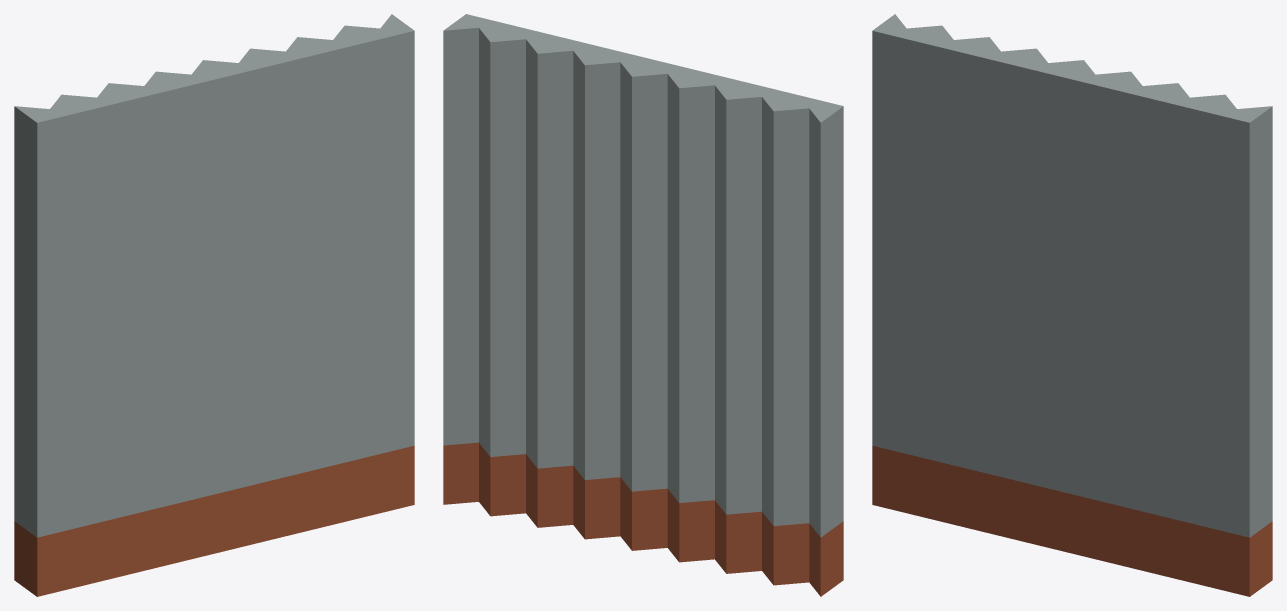
File: env_wall_corrugated.obj
3 views of the same model, side by side, from view 1: azimuth 30°, elevation 25°; view 2: azimuth 150°, elevation 25°; view 3: azimuth 330°, elevation 25° (orthographic).
Visible parts, largest first — view 1: WallCorrugated; view 2: WallCorrugated; view 3: WallCorrugated.
Part boxes in pixels (left/top/right/bottom): WallCorrugated: left=14, top=14, right=414, bottom=596; WallCorrugated: left=443, top=14, right=843, bottom=596; WallCorrugated: left=872, top=14, right=1272, bottom=596.
Bounding box in the file's own units: 2 × 2.4 × 0.21.
